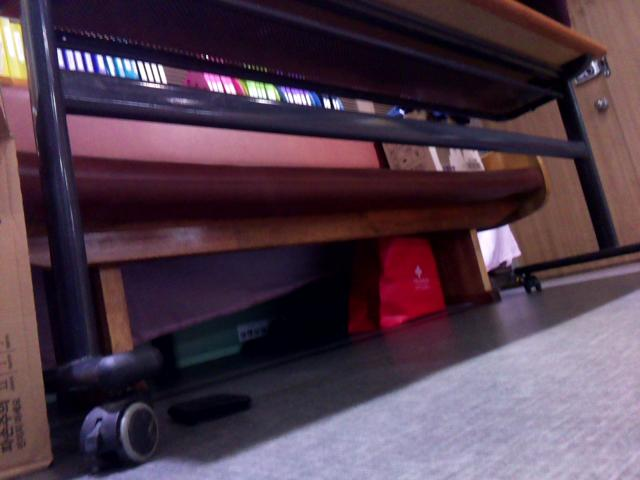wallet: (163, 384, 261, 431)
